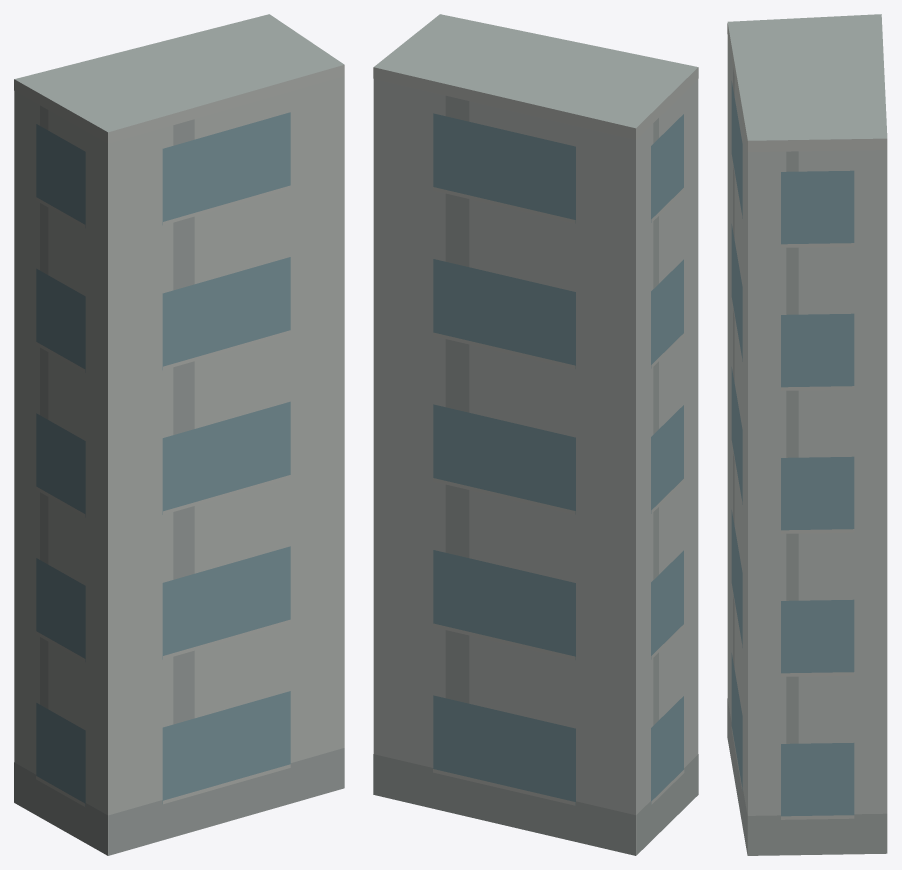
File: survey-upis-32975119.glb
The picture shows the model from 3 angles, left to right: view 1: azimuth 30°, elevation 25°; view 2: azimuth 150°, elevation 25°; view 3: azimuth 270°, elevation 25°; orthographic projection.
Parts seen in each view (by area): view 1: survey-upis-32975119.tmp; view 2: survey-upis-32975119.tmp; view 3: survey-upis-32975119.tmp.
Part boxes in pixels (box(x1,y1,x2,y2)): survey-upis-32975119.tmp: box(14, 14, 344, 855); survey-upis-32975119.tmp: box(373, 14, 698, 855); survey-upis-32975119.tmp: box(727, 14, 887, 855).
Size of the model in its own units: 5.81 by 15.25 by 3.1.
